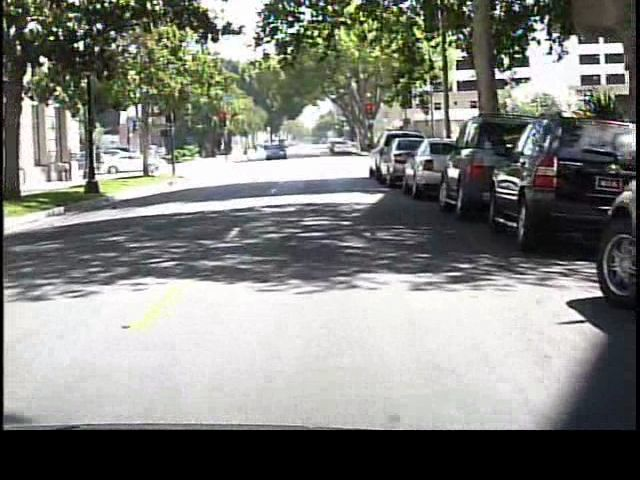person: (239, 142, 252, 165)
